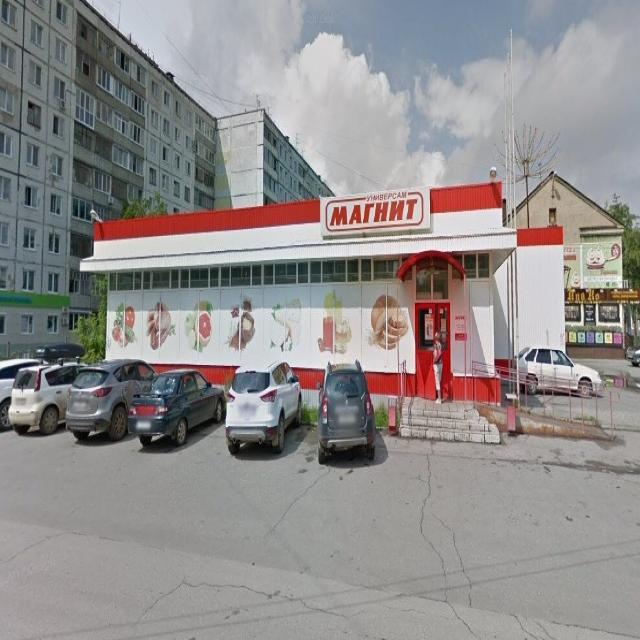non emergency car: (65, 358, 160, 445), (130, 364, 225, 450), (225, 358, 304, 459), (10, 356, 91, 434), (317, 360, 377, 465), (512, 348, 605, 400)
